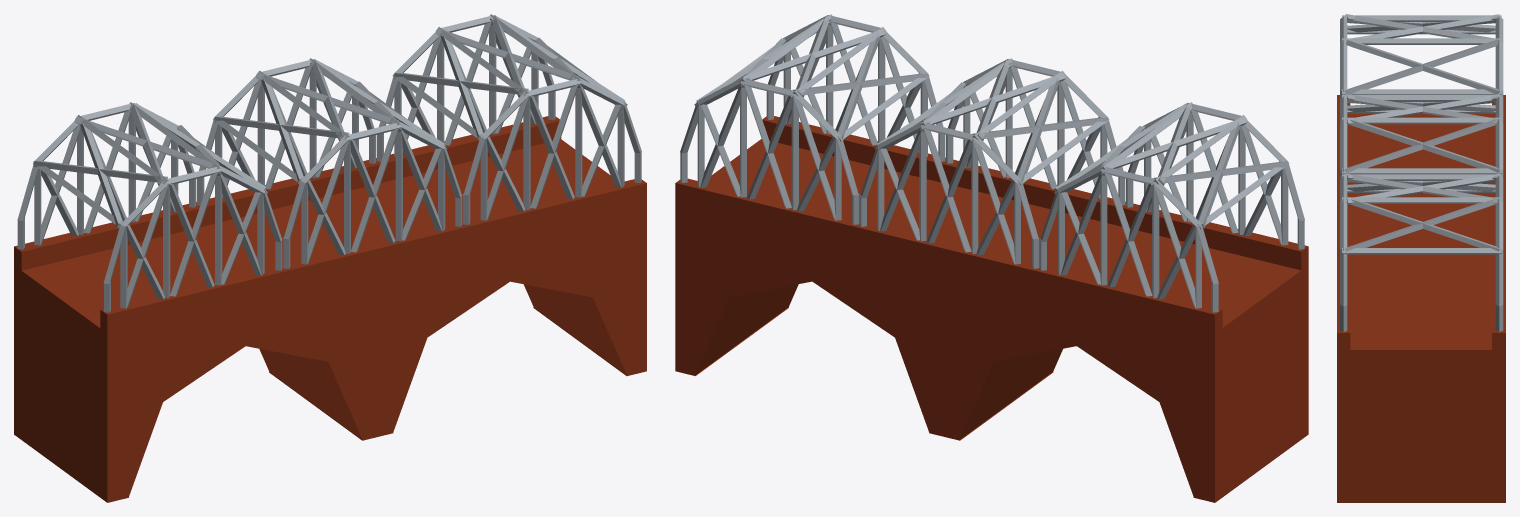
Rendered from TrainBridge.FBX.
The picture shows the model from 3 angles, left to right: view 1: azimuth 30°, elevation 25°; view 2: azimuth 150°, elevation 25°; view 3: azimuth 270°, elevation 25°; orthographic projection. The views are drawn at different scales.
Visible parts, largest first — view 1: Box001, Cylinder021; view 2: Box001, Cylinder021; view 3: Box001, Cylinder021.
Boxes of the visible parts, x1=… form: Box001: x1=14, y1=116, x2=646, y2=502; Cylinder021: x1=17, y1=14, x2=641, y2=312; Box001: x1=675, y1=116, x2=1308, y2=502; Cylinder021: x1=680, y1=14, x2=1304, y2=312; Box001: x1=1337, y1=95, x2=1505, y2=502; Cylinder021: x1=1340, y1=14, x2=1503, y2=331.
Size of the model in its own units: 30.02 by 9 by 16.29.
